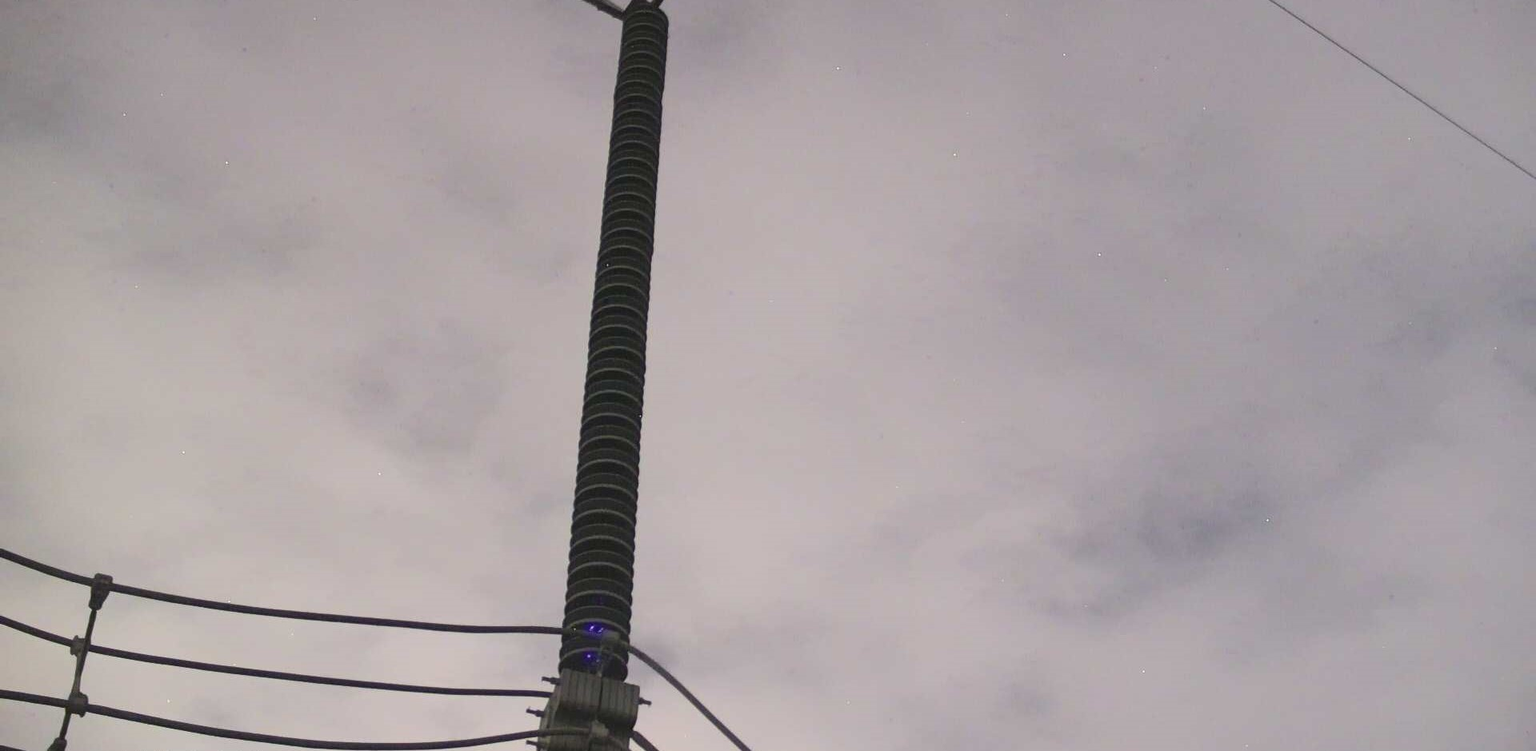绝缘子污闪: (584, 651, 594, 661), (588, 624, 595, 632), (597, 626, 604, 633), (595, 658, 599, 661)
